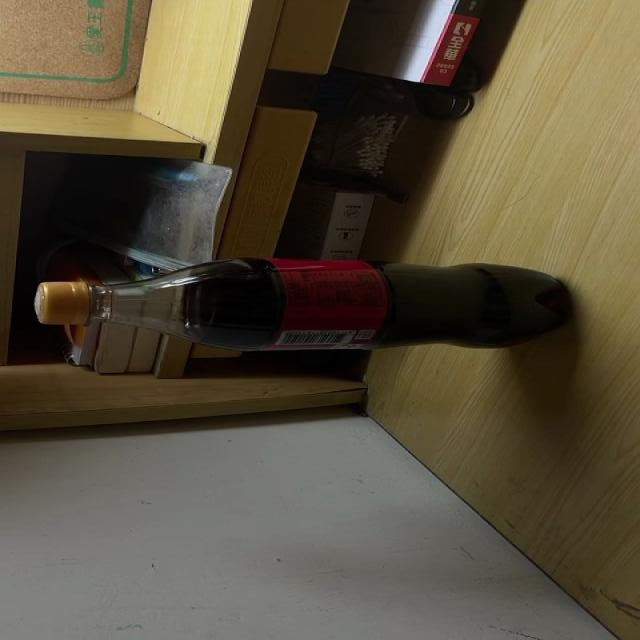Coca-Cola: (33, 259, 565, 348)
